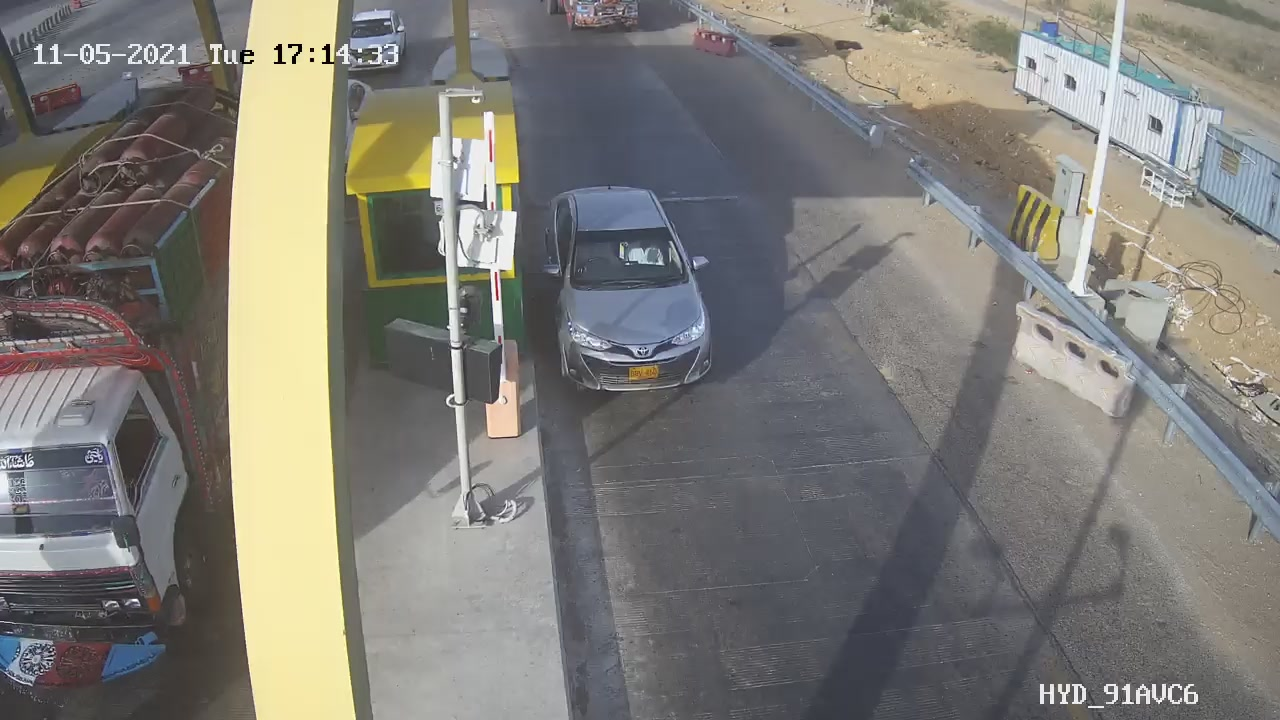F1: (521, 169, 740, 412)
